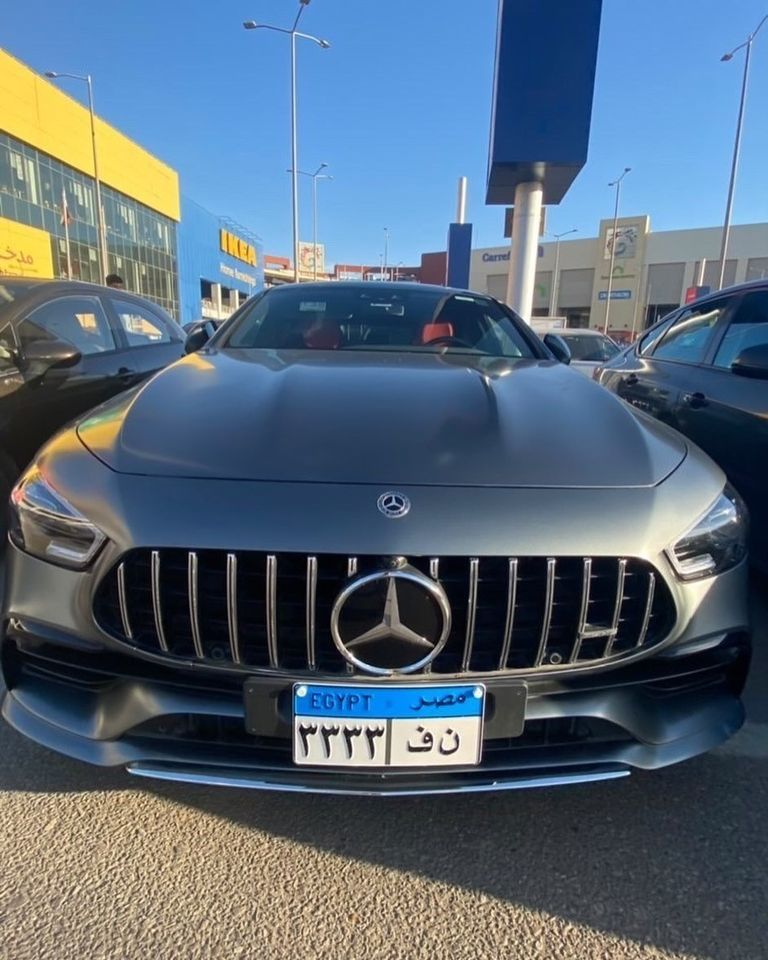carpl: (290, 704, 482, 769)
